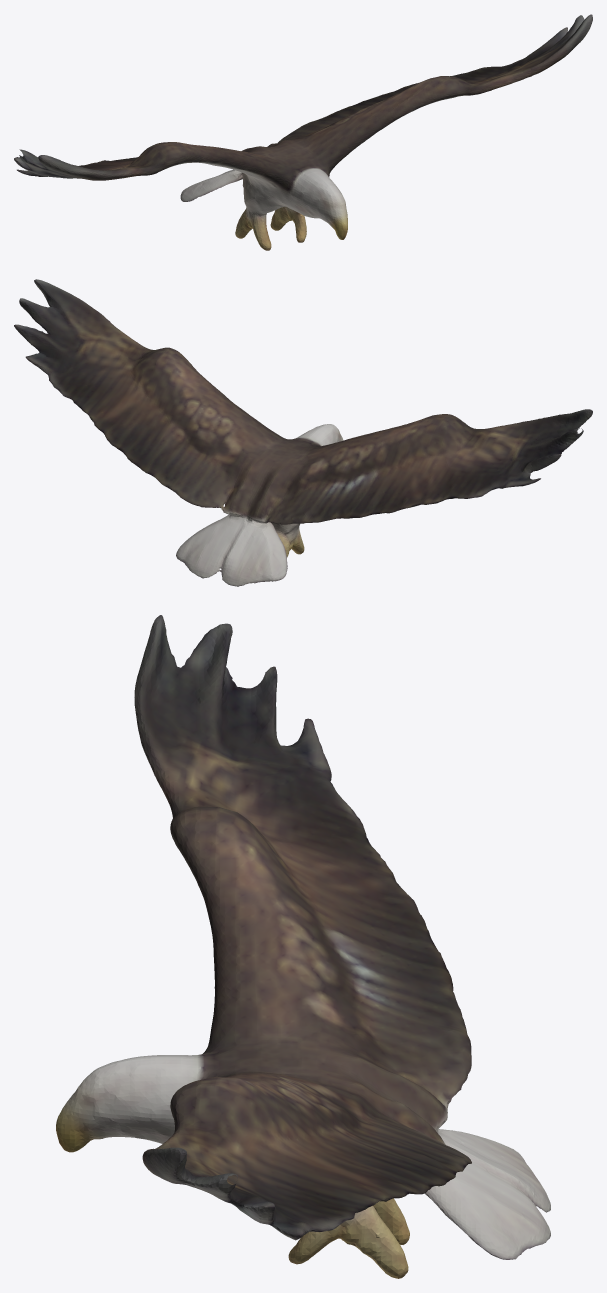
The model's file is eagle.glb.
3 views of the same model, one above another, from view 1: azimuth 30°, elevation 25°; view 2: azimuth 150°, elevation 25°; view 3: azimuth 270°, elevation 25° (orthographic). The views are drawn at different scales.
Parts seen in each view (by area): view 1: world; view 2: world; view 3: world.
Boxes of the visible parts, box(x1,y1,x2,y2) form: world: box(14, 14, 592, 250); world: box(14, 279, 592, 586); world: box(56, 615, 550, 1278).
Bounding box in the file's own units: 1 × 0.3256 × 0.385.
